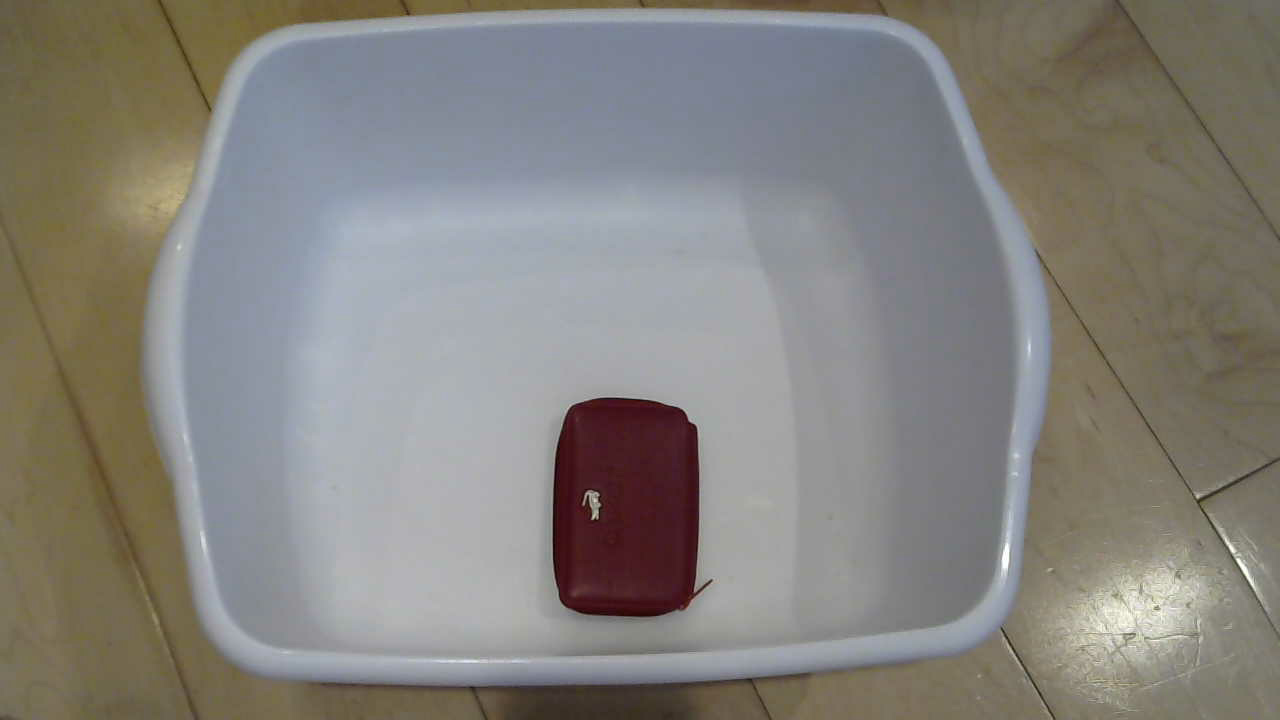wallet: (534, 392, 722, 632)
